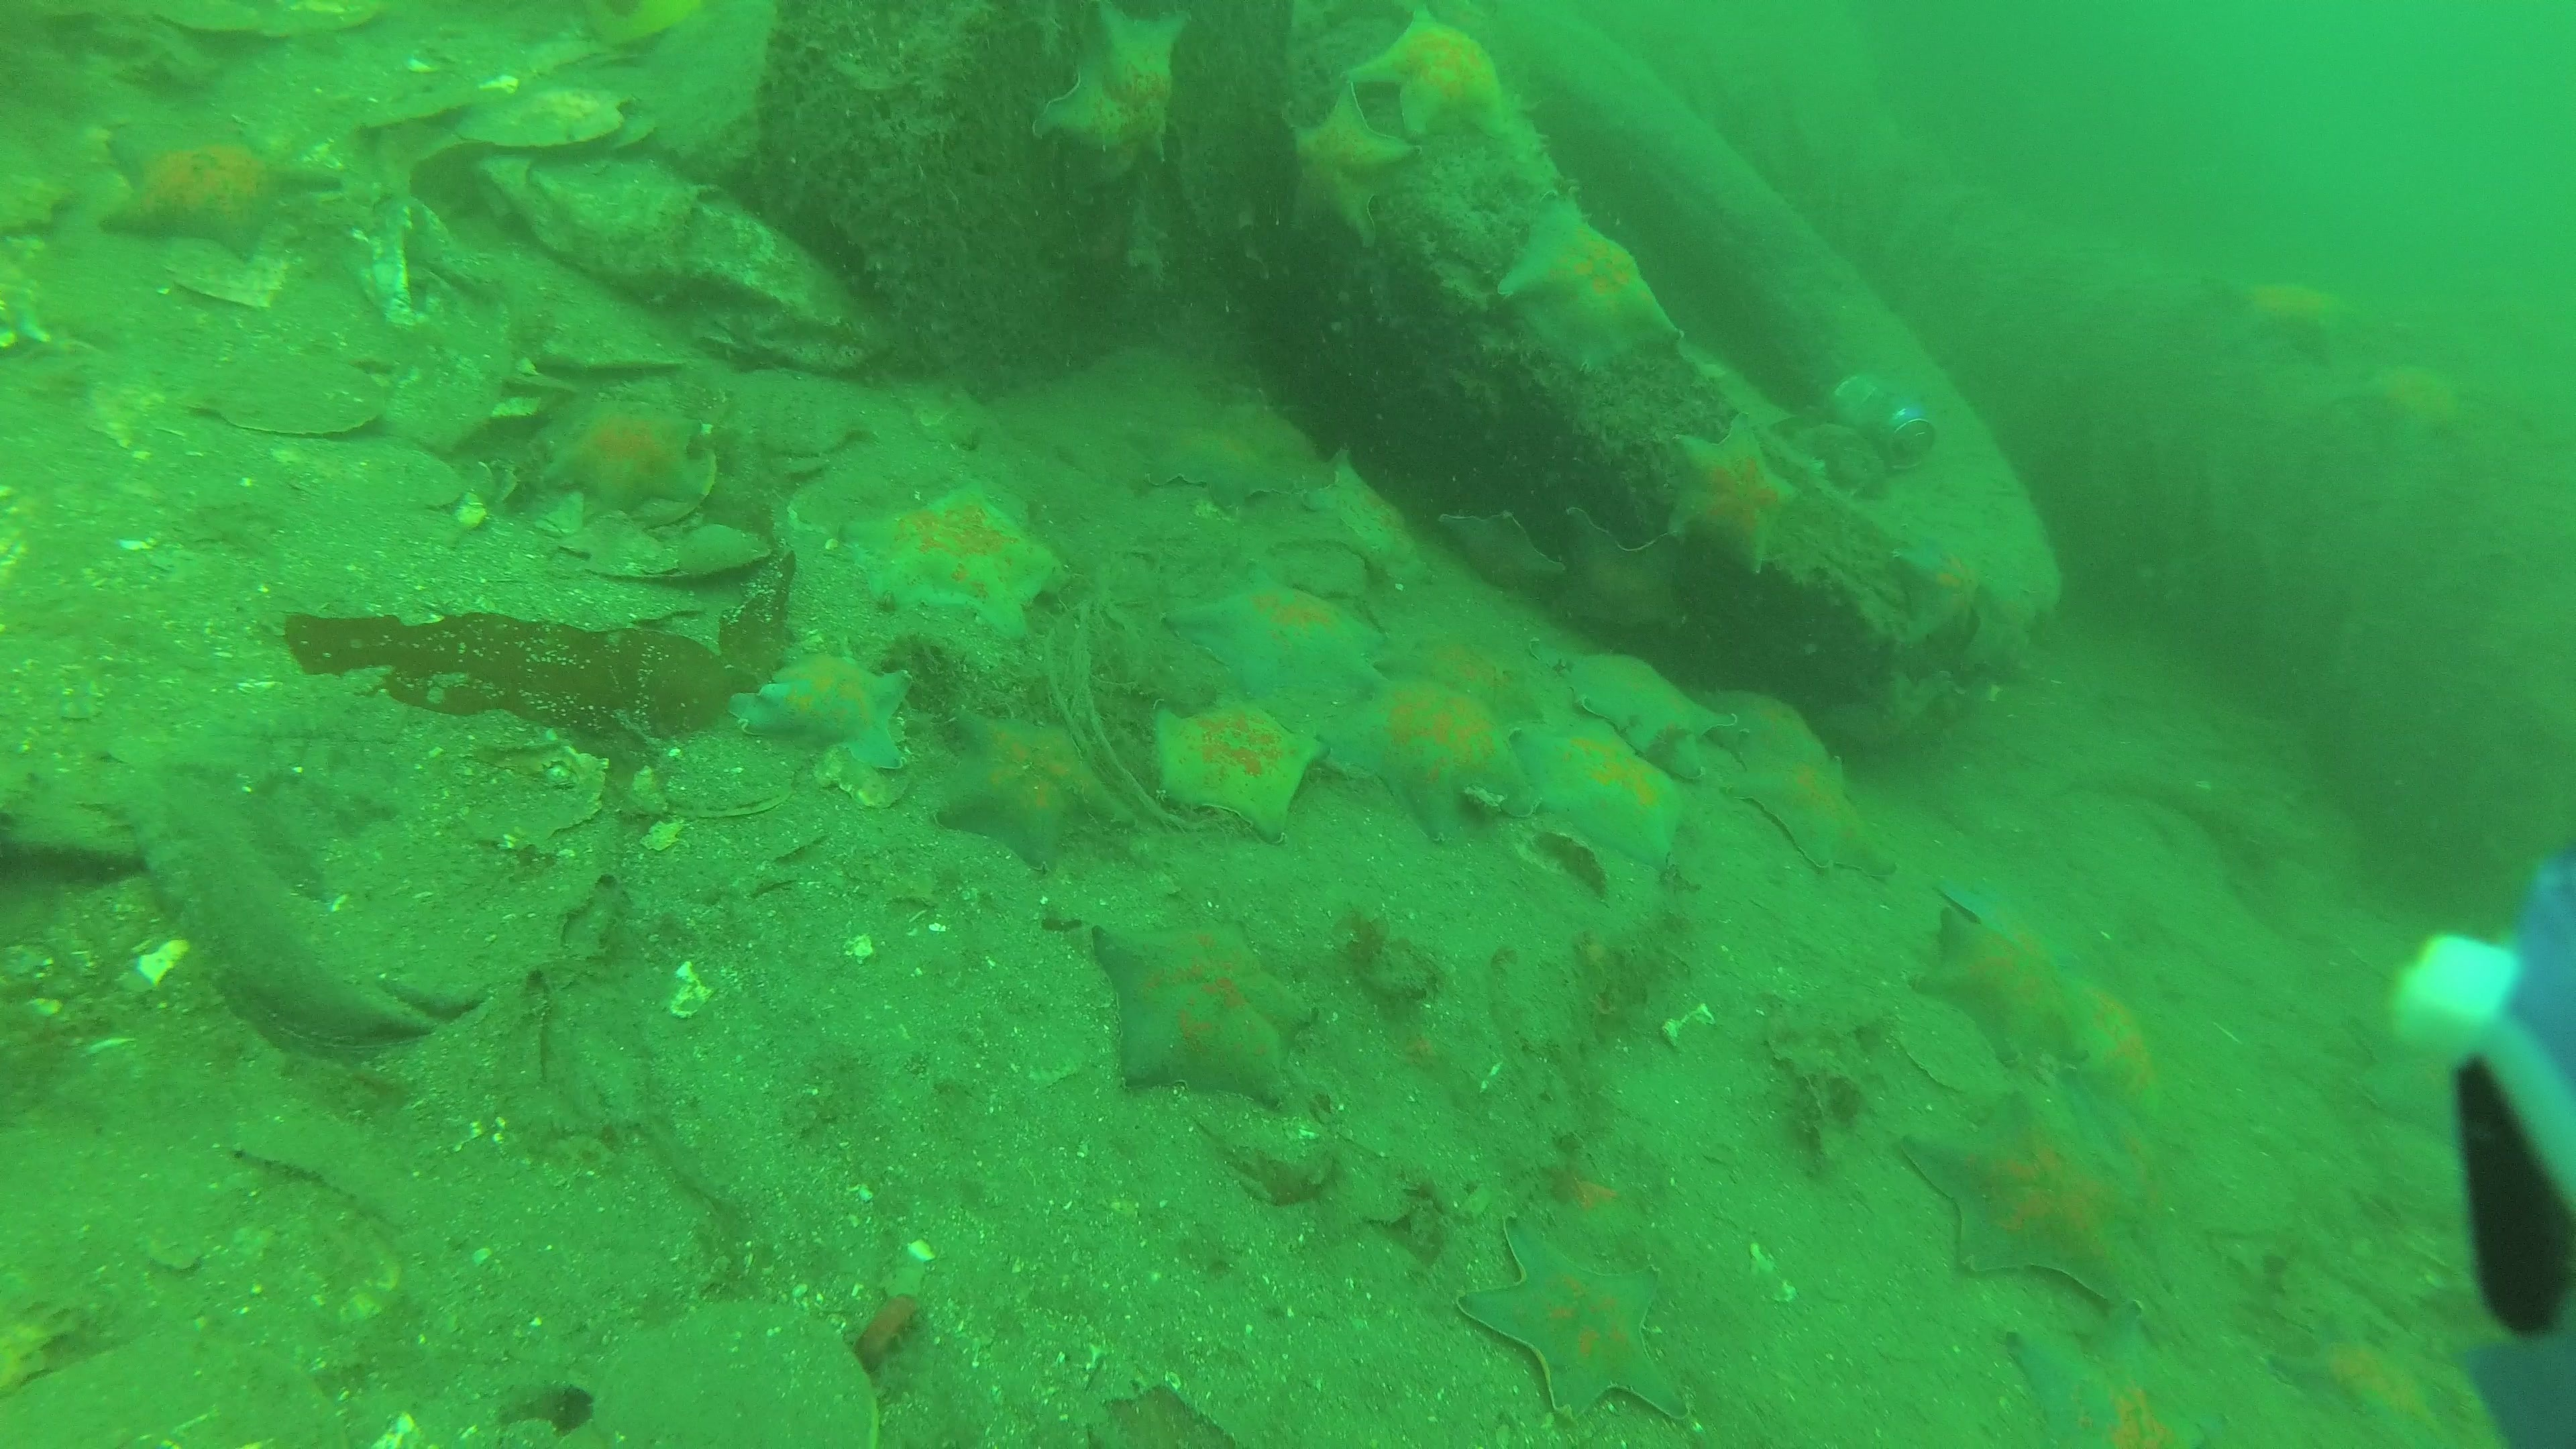echinus: (1258, 320, 1350, 428)
scallop: (589, 1297, 883, 1449), (0, 1334, 354, 1449), (458, 734, 614, 856), (177, 350, 387, 435), (720, 364, 876, 464), (379, 324, 502, 446), (656, 727, 810, 821), (586, 520, 778, 586), (315, 430, 458, 511), (453, 88, 630, 152), (150, 0, 389, 41)
starfish: (1453, 1208, 1684, 1422), (1902, 1109, 2143, 1309), (1092, 922, 1318, 1116), (847, 483, 1063, 646), (1502, 193, 1688, 380), (938, 699, 1138, 860), (99, 120, 315, 269), (1330, 674, 1522, 835), (1516, 717, 1688, 865), (1157, 586, 1375, 699), (1718, 745, 1893, 881), (2012, 1302, 2173, 1449), (2275, 1311, 2445, 1449), (1283, 81, 1421, 251), (1665, 409, 1803, 577), (1909, 911, 2056, 1069), (1154, 699, 1322, 833), (541, 396, 717, 518), (732, 658, 920, 770), (1353, 9, 1499, 131), (1555, 515, 1674, 637), (1562, 655, 1711, 752), (1030, 71, 1162, 177), (1129, 426, 1309, 504), (1311, 458, 1421, 579), (2054, 971, 2155, 1095), (1081, 0, 1191, 108), (1371, 637, 1530, 711), (2227, 272, 2357, 361), (1890, 531, 1985, 644), (2371, 1037, 2465, 1150), (2350, 368, 2470, 442), (1702, 686, 1829, 755), (1444, 508, 1552, 587)
